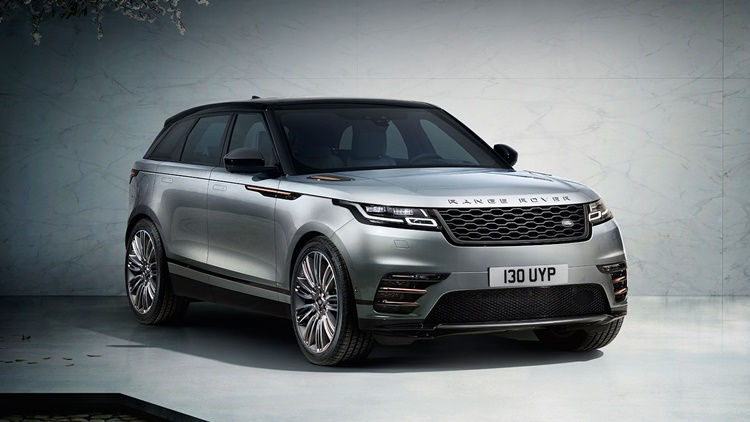pickup: (124, 95, 628, 367)
